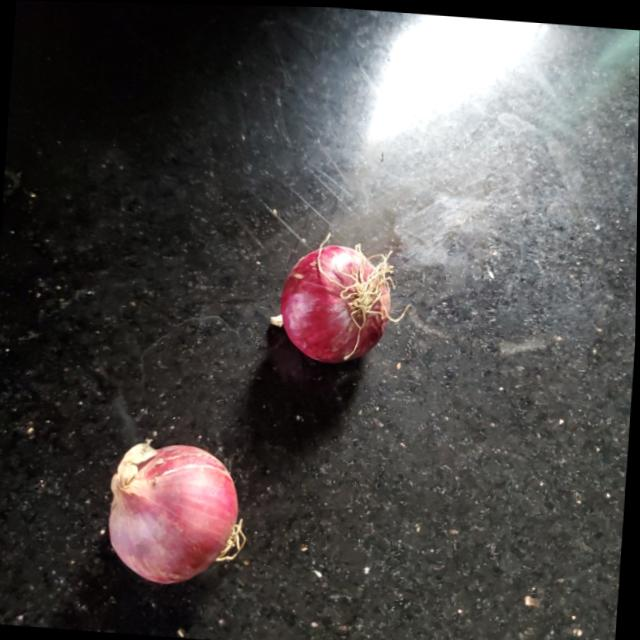onion: (102, 439, 244, 588), (275, 239, 392, 364)
